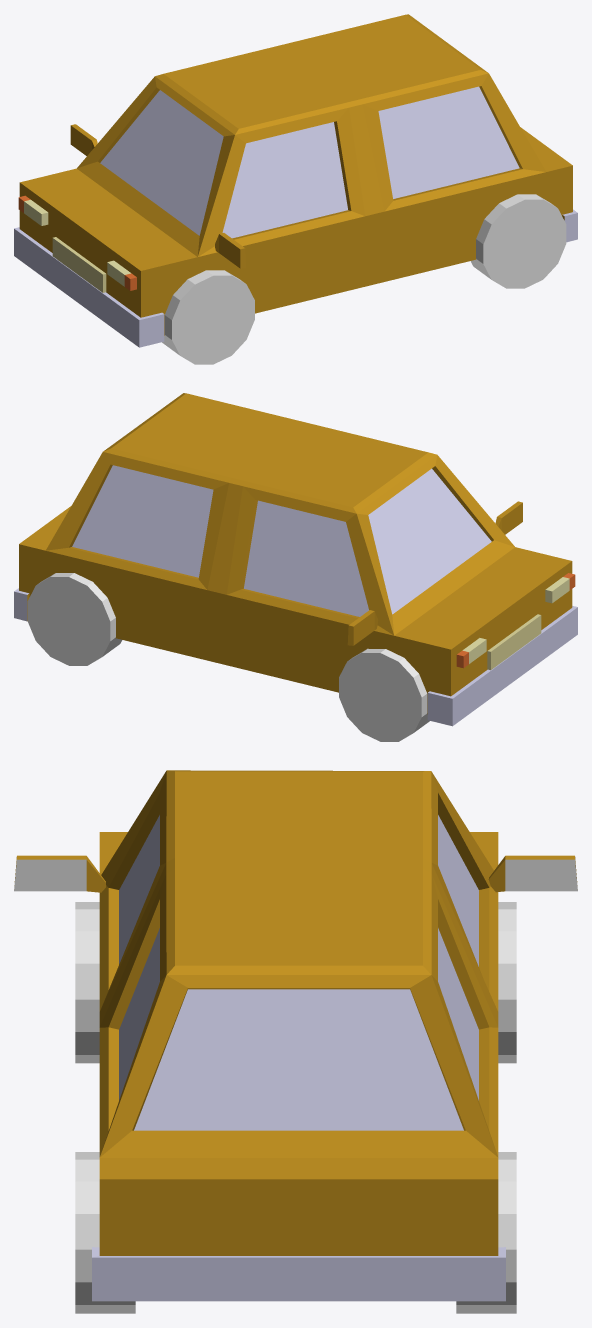
File: car2 (1).fbx
3 renders of one model, top to bottom at view 1: azimuth 30°, elevation 25°; view 2: azimuth 150°, elevation 25°; view 3: azimuth 270°, elevation 25°, orthographic. The views are drawn at different scales.
Visible parts, largest first — view 1: Cube.012, Cube.014, Cube.013, Cube.016, Cube.017, Cube.015; view 2: Cube.012, Cube.014, Cube.013, Cube.016, Cube.017, Cube.015; view 3: Cube.012, Cube.014, Cube.013, Cube.016.
Boxes of the visible parts, left/top/right/bottom form: Cube.012: left=14, top=14, right=577, bottom=347; Cube.014: left=470, top=194, right=566, bottom=288; Cube.013: left=162, top=270, right=254, bottom=364; Cube.016: left=70, top=124, right=245, bottom=268; Cube.017: left=52, top=237, right=106, bottom=292; Cube.015: left=18, top=195, right=136, bottom=290; Cube.012: left=14, top=393, right=577, bottom=726; Cube.014: left=27, top=573, right=122, bottom=665; Cube.013: left=339, top=648, right=429, bottom=741; Cube.016: left=347, top=501, right=522, bottom=645; Cube.017: left=487, top=614, right=541, bottom=670; Cube.015: left=456, top=573, right=575, bottom=668; Cube.012: left=92, top=770, right=505, bottom=1301; Cube.014: left=75, top=1152, right=516, bottom=1313; Cube.013: left=75, top=902, right=516, bottom=1063; Cube.016: left=14, top=855, right=577, bottom=892.
Size of the model in its own units: 581 by 251 by 390.
